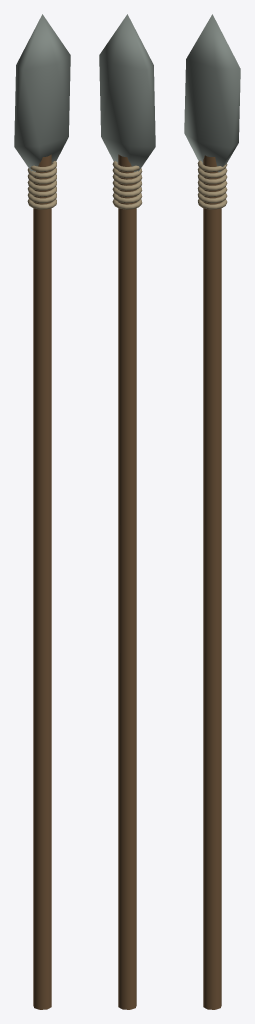
File: GoblinSpear.glb
3 renders of one model, left to right at view 1: azimuth 30°, elevation 25°; view 2: azimuth 150°, elevation 25°; view 3: azimuth 330°, elevation 25°, orthographic.
Parts seen in each view (by area): view 1: GoblinSpear; view 2: GoblinSpear; view 3: GoblinSpear.
Part boxes in pixels (bbox=[...]): GoblinSpear: bbox=[14, 14, 70, 1009]; GoblinSpear: bbox=[99, 14, 155, 1009]; GoblinSpear: bbox=[184, 14, 240, 1009].
Bounding box in the file's own units: 0.1699 × 2.85 × 0.077.
